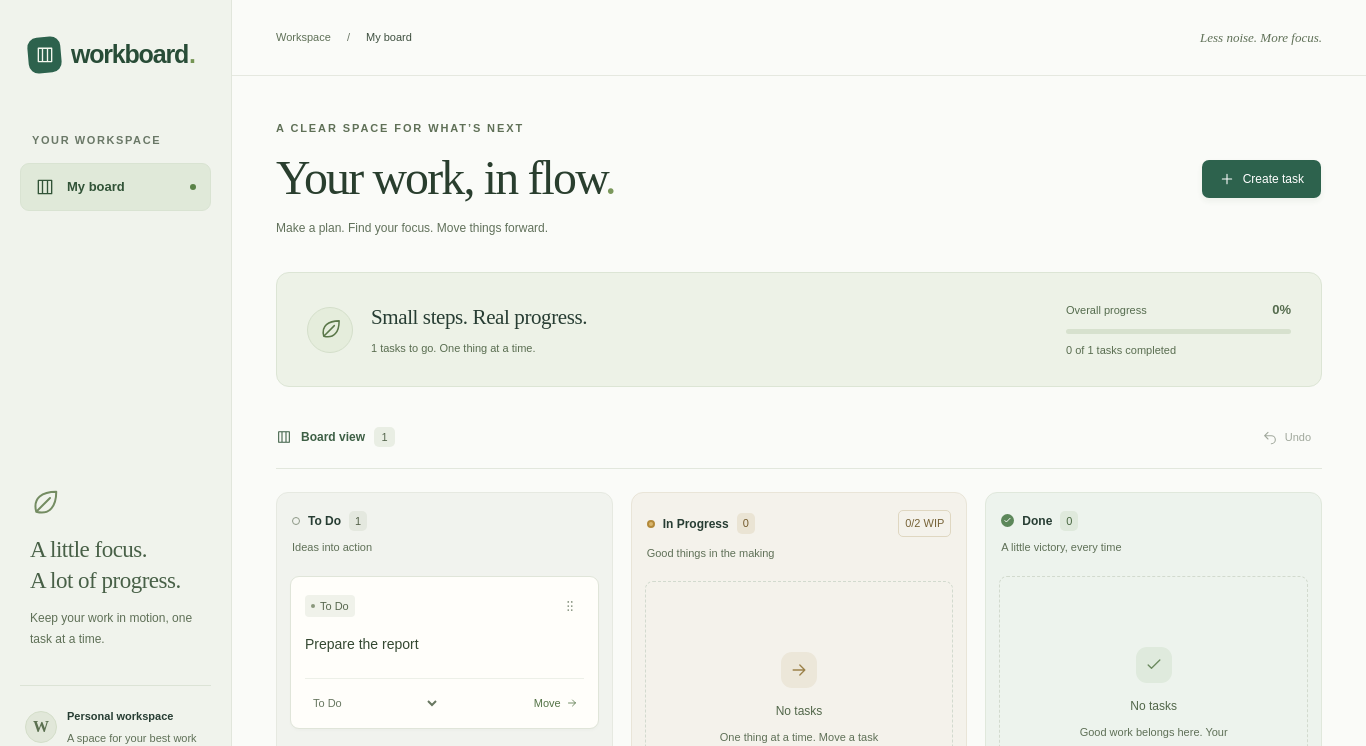
BoardView › keeps the card and shows an alert when saving a move fails
The width and height of the screenshot is (1366, 746).
Select "Done" in the dropdown named "Destination for Prepare the report" at (372,703), box x1=305 y1=688 x2=440 y2=718
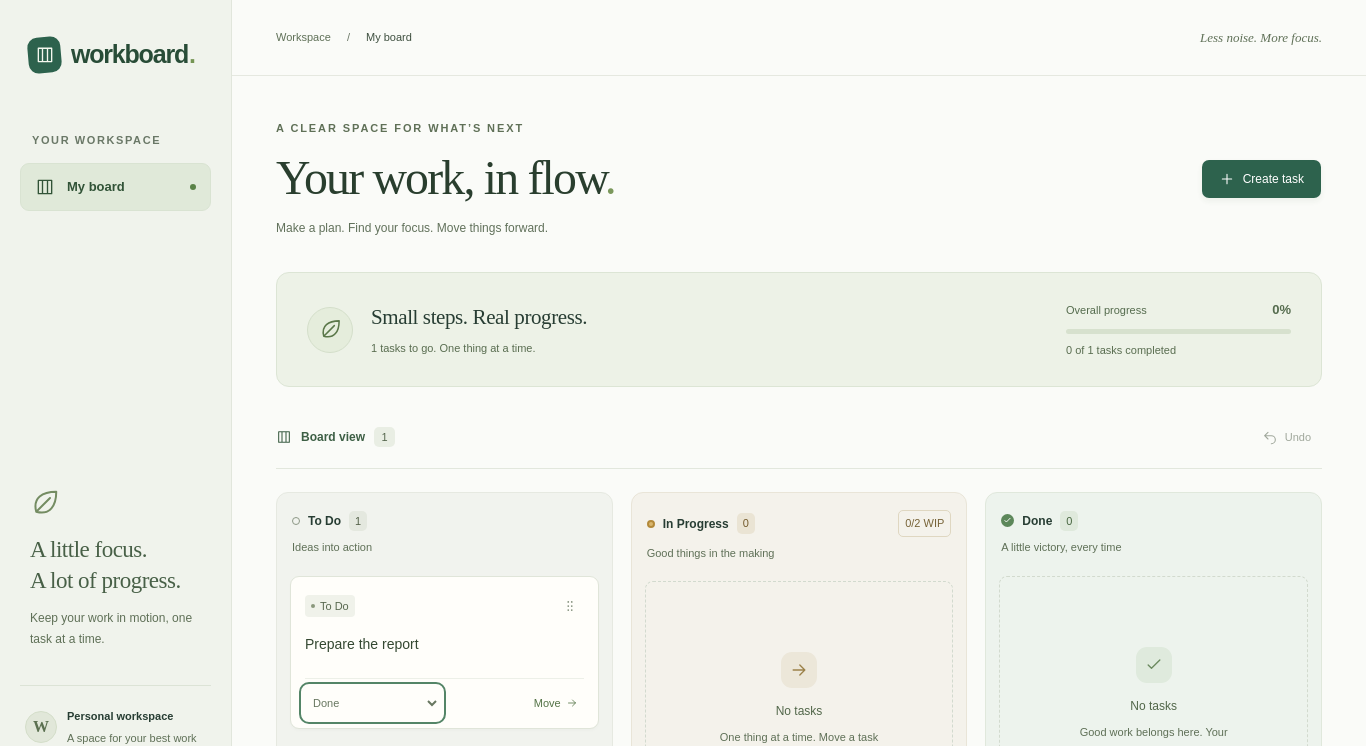
Click the button "Move" at (556,703), box x1=528 y1=689 x2=584 y2=717
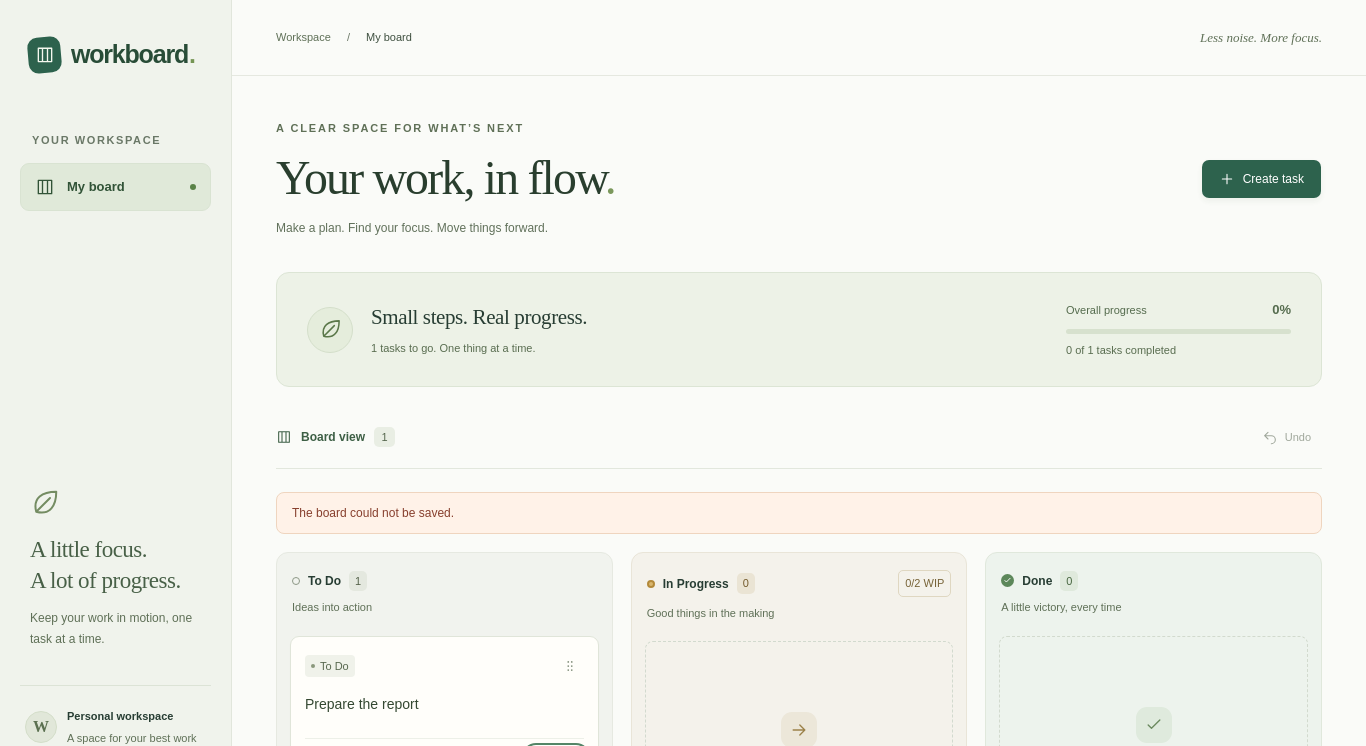
Expected: the heading "Prepare the report" is shown, x1=305 y1=696 x2=419 y2=712
Expected: the message reads "The board could not be saved.", x1=292 y1=506 x2=454 y2=520
